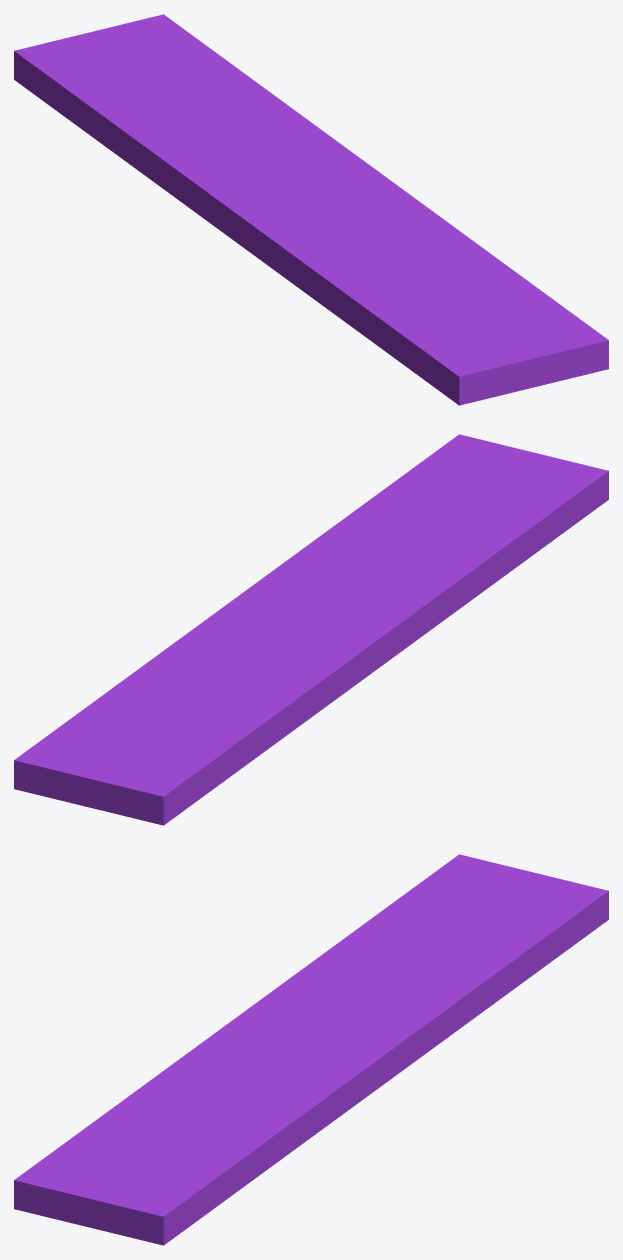
Rendered from StairsStep_209_chunks.fbx.
3 renders of one model, top to bottom at view 1: azimuth 30°, elevation 25°; view 2: azimuth 150°, elevation 25°; view 3: azimuth 330°, elevation 25°, orthographic.
Parts seen in each view (by area): view 1: StairsStep_209_1, StairsStep_209_0, StairsStep_209_2, StairsStep_209_3; view 2: StairsStep_209_1, StairsStep_209_0, StairsStep_209_2, StairsStep_209_3; view 3: StairsStep_209_1, StairsStep_209_0, StairsStep_209_2, StairsStep_209_3.
Part boxes in pixels (left/top/right/bottom): StairsStep_209_1: left=264, top=209, right=608, bottom=405; StairsStep_209_0: left=14, top=14, right=379, bottom=187; StairsStep_209_2: left=59, top=84, right=307, bottom=262; StairsStep_209_3: left=303, top=173, right=452, bottom=225; StairsStep_209_1: left=303, top=434, right=608, bottom=642; StairsStep_209_0: left=14, top=601, right=299, bottom=825; StairsStep_209_2: left=209, top=605, right=424, bottom=773; StairsStep_209_3: left=231, top=548, right=341, bottom=622; StairsStep_209_1: left=14, top=1041, right=365, bottom=1245; StairsStep_209_0: left=323, top=854, right=608, bottom=1092; StairsStep_209_2: left=198, top=888, right=413, bottom=1045; StairsStep_209_3: left=281, top=1028, right=391, bottom=1102.
Bounding box in the file's own units: 157 × 28.98 × 810.
